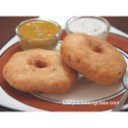vada: (61, 33, 127, 82), (4, 49, 76, 92)
